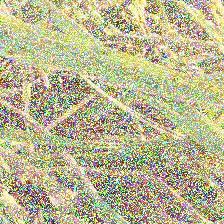Bacterial_Leaf_Blight: (211, 128, 222, 139), (171, 74, 182, 81), (100, 48, 111, 55), (9, 45, 16, 55), (131, 65, 140, 72), (44, 133, 53, 139), (18, 44, 26, 49), (51, 58, 58, 61)
